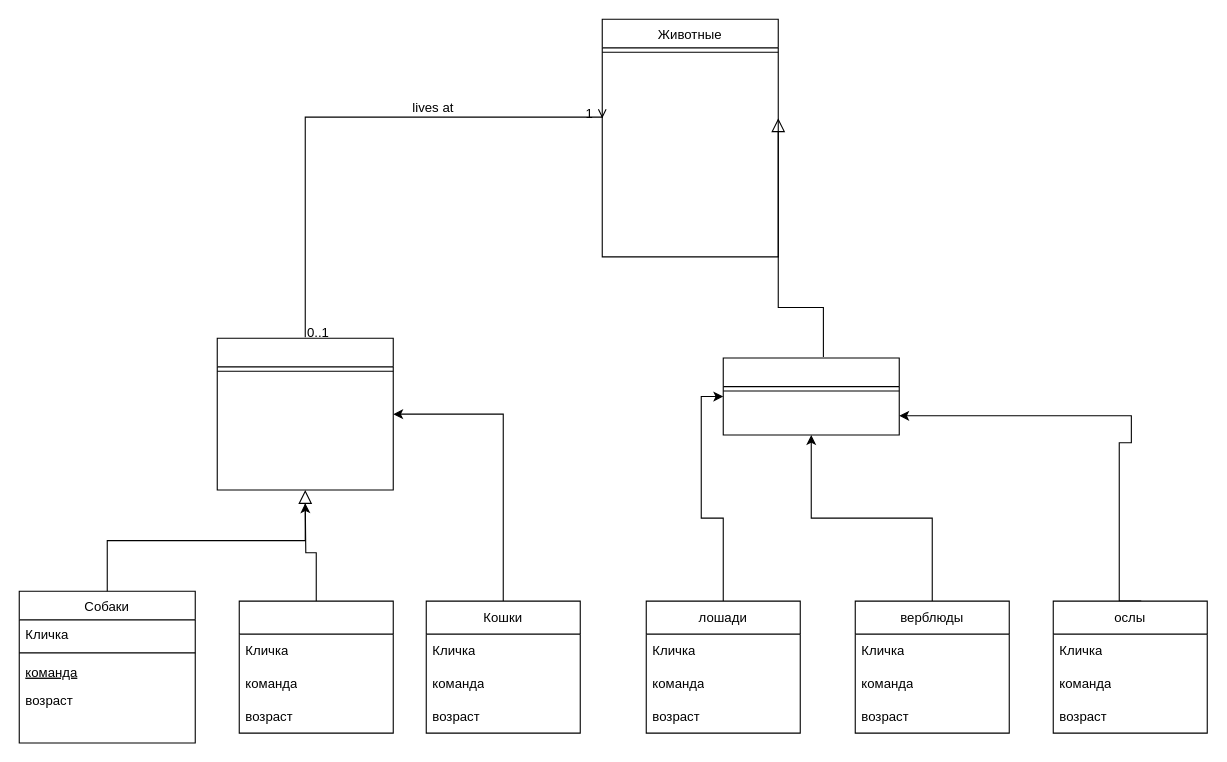
Image size: 1227x762. Some labels were removed from this diagram. Here are the shapes that lost their labels. From the top down, the box of each, then its label:
(216, 337, 393, 490): Дом Животные
(722, 357, 899, 435): Вьючные животные
(238, 600, 393, 733): хомяки
